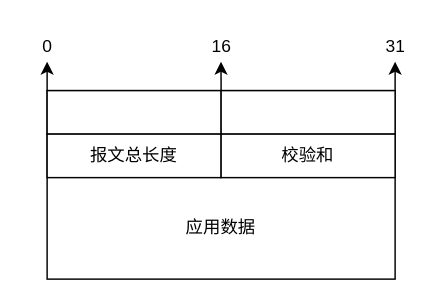
Some shapes in this 448 by 305 pixel diagram are drawn without their labels. Each missing label, with the centre of its shape:
源端口号: (x=133, y=111)
目的端口号: (x=307, y=111)
